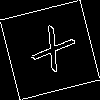X: (25, 25, 77, 82)
